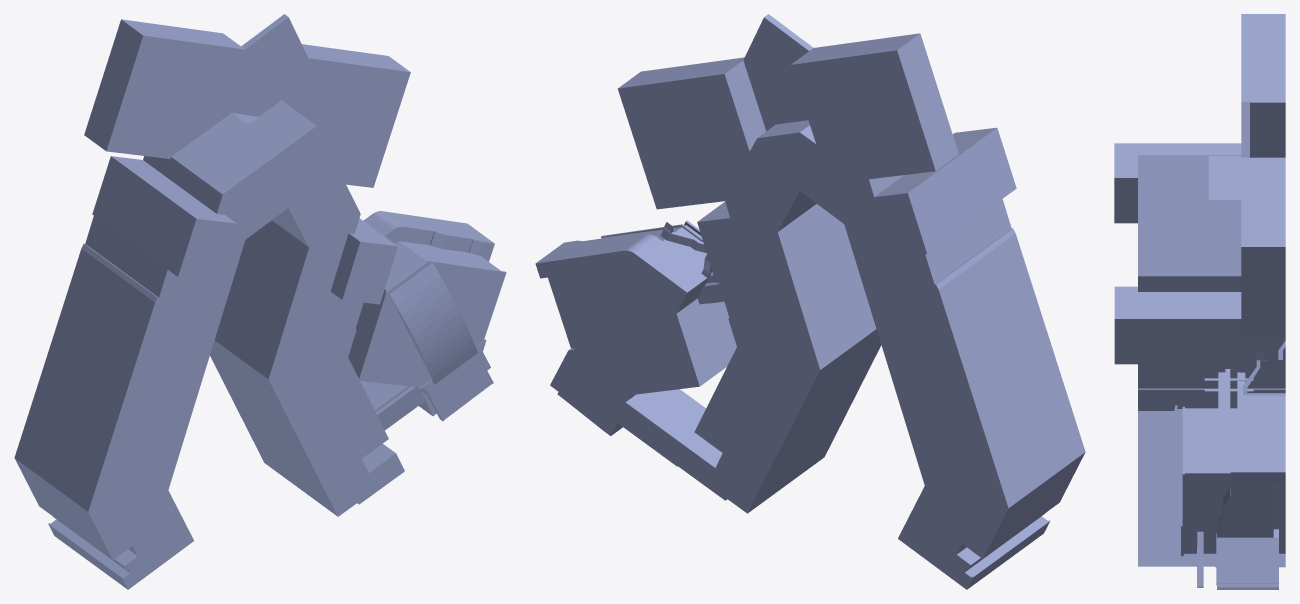
3 views of the same model, side by side, from view 1: azimuth 30°, elevation 25°; view 2: azimuth 150°, elevation 25°; view 3: azimuth 270°, elevation 25° (orthographic). The views are drawn at different scales.
Parts seen in each view (by area): view 1: EA; view 2: EA; view 3: EA.
Boxes of the visible parts, left/top/right/bottom form: EA: left=14, top=14, right=506, bottom=589; EA: left=535, top=14, right=1085, bottom=589; EA: left=1114, top=14, right=1285, bottom=589.
Size of the model in its own units: 102 by 108 by 33.48.
